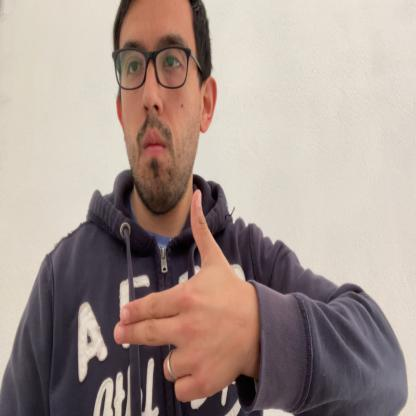H: (114, 190, 245, 402)
